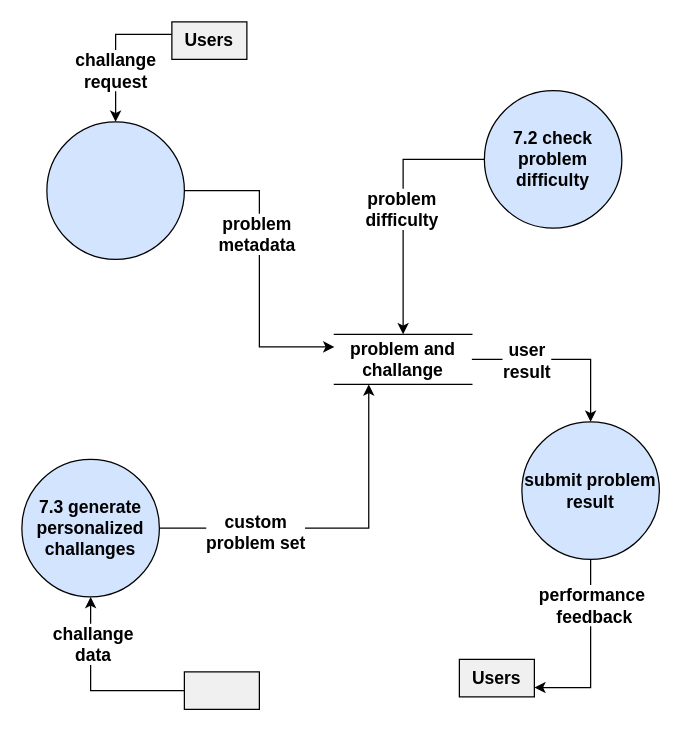
Image size: 681x731. Some labels were removed from this diagram. Here are the shapes that lost their labels. From the top down, the centre of each, then its label:
(x=115, y=190): 7.1 fetch problem set
(x=221, y=690): Admin
